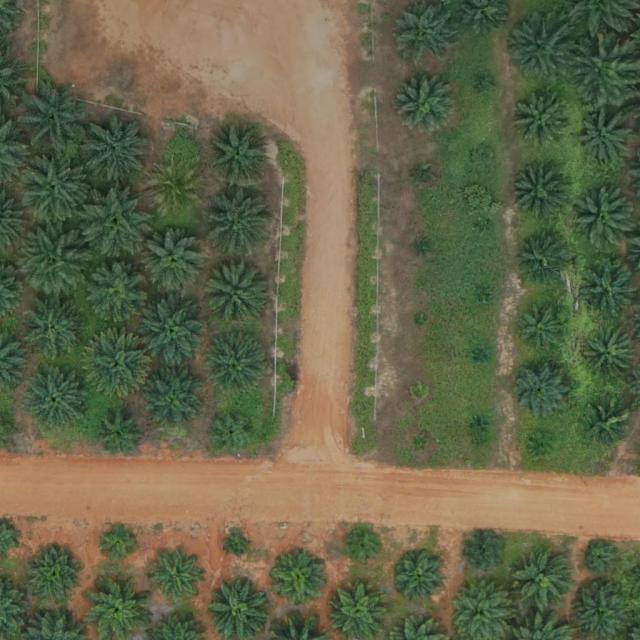Healthy: (506, 13, 577, 84), (82, 188, 153, 259), (506, 356, 576, 427), (138, 295, 208, 366), (84, 115, 154, 186), (20, 85, 90, 156), (20, 151, 90, 222), (84, 334, 154, 404), (206, 187, 276, 257), (18, 229, 88, 299), (571, 35, 640, 106), (572, 188, 635, 251), (577, 258, 640, 321), (394, 3, 457, 66), (142, 369, 205, 432), (25, 368, 88, 431), (393, 70, 455, 133), (207, 124, 269, 187), (145, 232, 207, 295), (23, 301, 85, 364), (513, 549, 575, 612), (204, 262, 266, 324), (207, 333, 269, 395), (86, 264, 148, 326), (209, 578, 271, 640), (578, 111, 633, 166), (516, 233, 571, 288), (584, 328, 639, 383), (149, 550, 204, 605), (273, 556, 328, 611), (333, 584, 388, 639), (394, 553, 449, 608), (516, 91, 570, 146), (512, 167, 566, 222), (32, 548, 86, 603), (588, 402, 635, 449), (97, 413, 144, 460)
Small: (518, 300, 573, 356), (211, 409, 258, 457), (464, 533, 504, 573), (346, 529, 385, 569), (99, 522, 138, 561), (586, 545, 617, 576), (473, 148, 497, 172), (531, 432, 555, 456), (228, 534, 251, 558), (481, 76, 497, 92), (416, 240, 432, 256), (411, 384, 427, 400), (475, 292, 490, 308), (416, 170, 432, 185), (414, 314, 429, 330), (475, 348, 491, 363), (471, 417, 487, 432), (479, 220, 494, 235), (413, 437, 428, 452)
Yellow: (148, 164, 203, 219)
